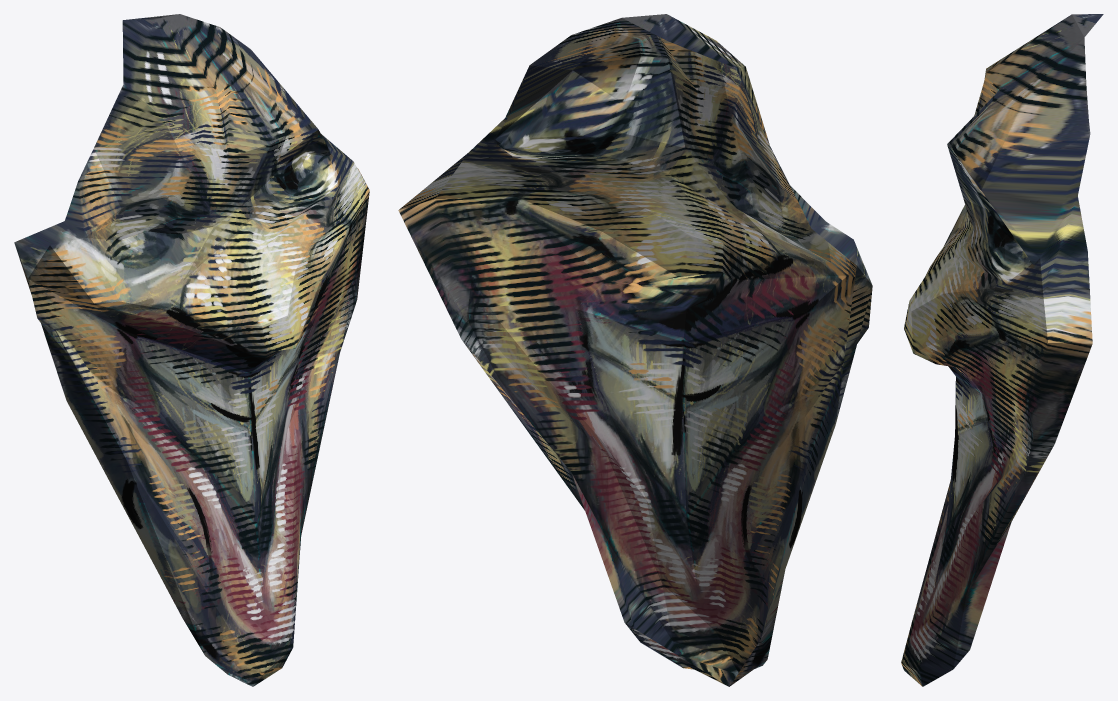
File: maskata1.fbx
3 views of the same model, side by side, from view 1: azimuth 30°, elevation 25°; view 2: azimuth 150°, elevation 25°; view 3: azimuth 270°, elevation 25° (orthographic). The views are drawn at different scales.
Visible parts, largest first — view 1: pSphere4; view 2: pSphere4; view 3: pSphere4.
Boxes of the visible parts, bbox=[...] form: pSphere4: bbox=[14, 14, 369, 686]; pSphere4: bbox=[398, 14, 872, 686]; pSphere4: bbox=[901, 14, 1103, 686].
Bounding box in the file's own units: 16.74 × 27.09 × 7.69.
Materials: 1 (1 with a texture image).
